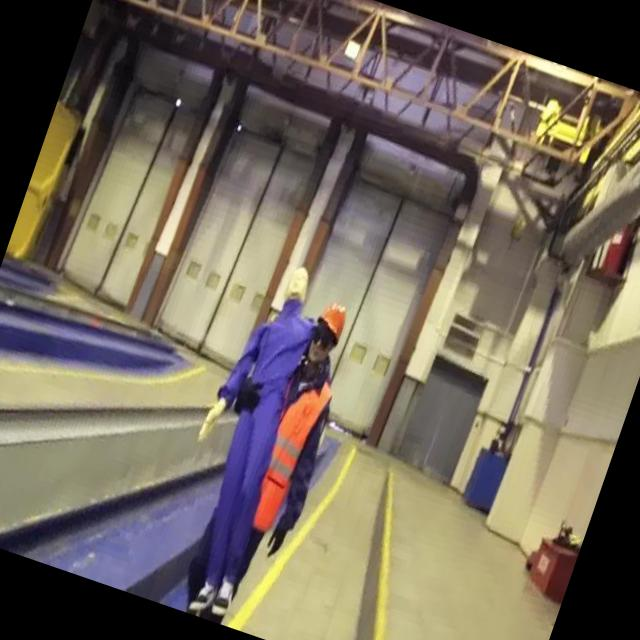hard_hat: (315, 298, 352, 344)
safety_vest: (244, 366, 339, 540)
